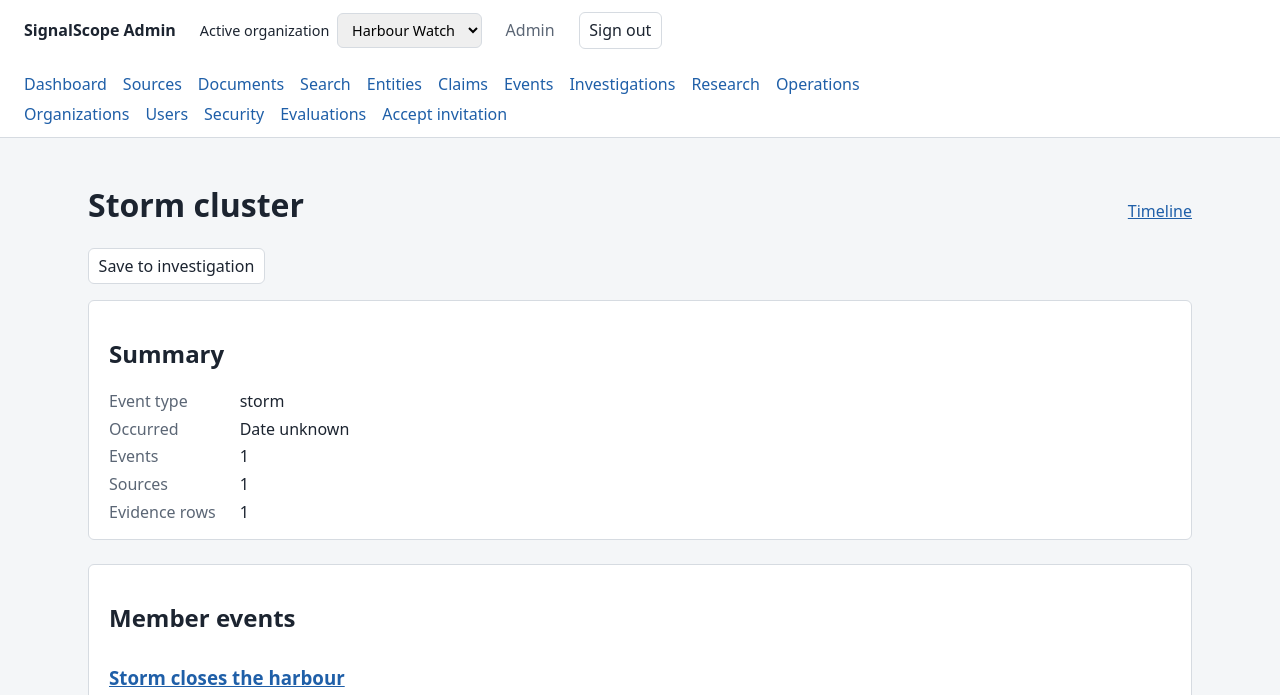
it: opens an event page from a cluster member
What coordinates should you click on to do the following:
click the link "Storm closes the harbour"
I would click on:
 (227, 678)
Its box is top-left (109, 665), bottom-right (345, 690).
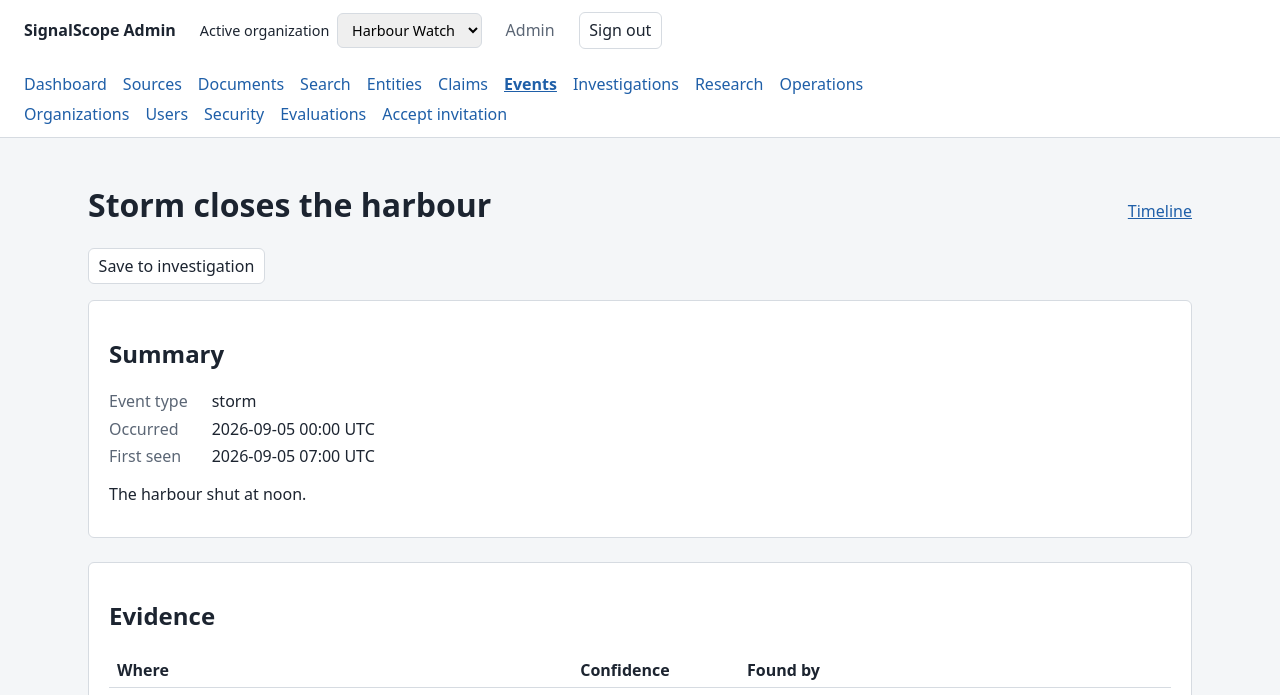
Expected: the heading "Storm closes the harbour" is shown, top-left (88, 183), bottom-right (491, 226)
